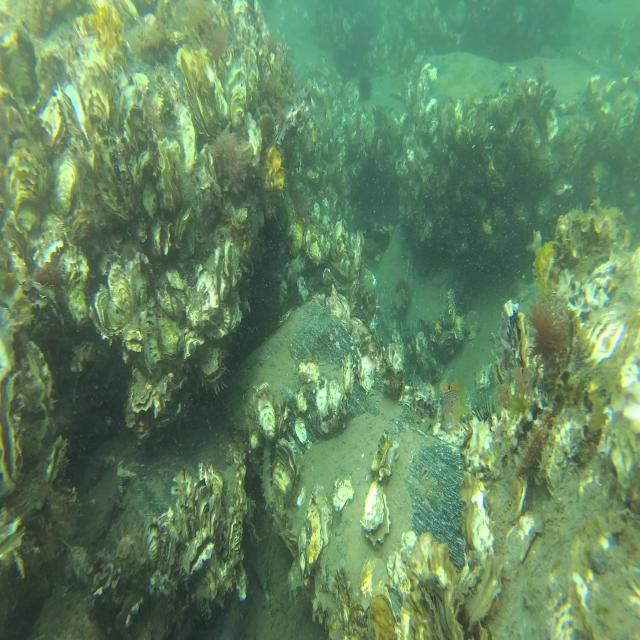echinus: (358, 74, 372, 103)
holothurian: (258, 443, 275, 512)
